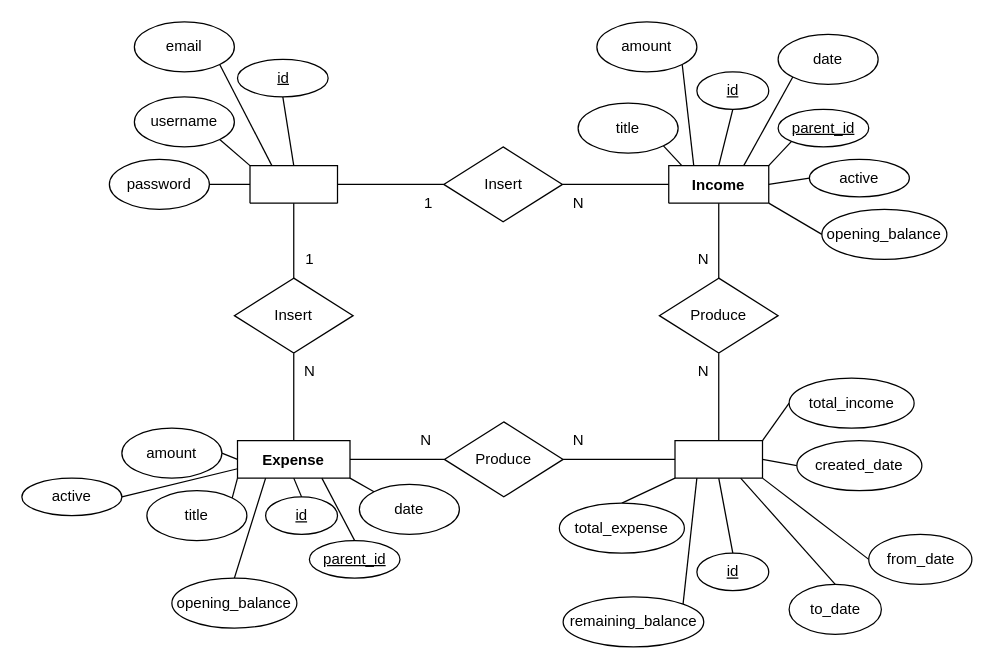
This 994x669 diagram has some shape labels left out. The centre of each missing label's shape, as x and y in pixels:
Report: the point at 718,458
User: the point at 293,183
